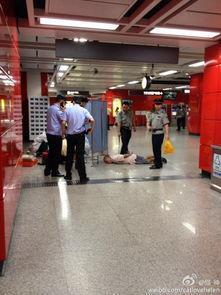Fall-Detected: (95, 146, 160, 165)
